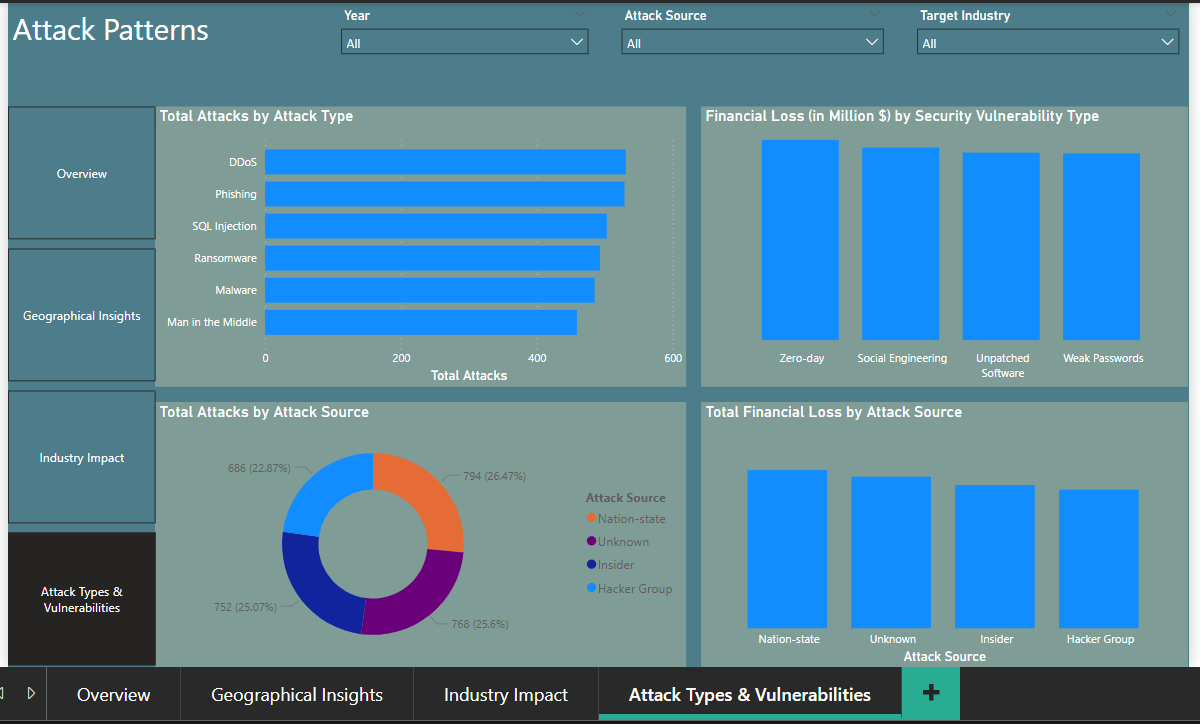

The dashboard page shown, as its layout file describes it:
{"tool":"powerbi","page":{"name":"Attack Types & Vulnerabilities","canvas":[1280,720],"ordinal":3},"visuals":[{"type":"clusteredBarChart","fields":{"Category":["Cyber Security.Attack Type"],"Y":["Cyber Security.Total Attacks"]},"box":[160,112,576,304],"z":0},{"type":"clusteredColumnChart","fields":{"Category":["Cyber Security.Security Vulnerability Type"],"Y":["Sum(Cyber Security.Financial Loss (in Million $))"]},"box":[752,112,528,304],"z":1000},{"type":"donutChart","fields":{"Category":["Cyber Security.Attack Source"],"Y":["Cyber Security.Total Attacks"]},"box":[160,432,576,288],"z":2000},{"type":"clusteredColumnChart","fields":{"Category":["Cyber Security.Attack Source"],"Y":["Cyber Security.Total Financial Loss"]},"box":[752,432,528,288],"z":3000},{"type":"pageNavigator","box":[0,112,160,608],"z":4000},{"type":"slicer","fields":{"Values":["Cyber Security.Year"]},"box":[352,0,288,96],"z":5000},{"type":"slicer","fields":{"Values":["Cyber Security.Attack Source"]},"box":[656,0,304,96],"z":6000},{"type":"slicer","fields":{"Values":["Cyber Security.Target Industry"]},"box":[976,0,304,96],"z":7000},{"type":"textbox","box":[0,0,304,96],"z":8000}]}

Visuals, with their boxes on the page's 1280x720 design canvas (x1, y1, x2, y2). These are canvas units, not pixel positions in the 1200x724 screenshot, which may show the page scaled, cropped or inside an application window:
clusteredBarChart - Cyber Security.Attack Type x Cyber Security.Total Attacks: Rect(160, 112, 736, 416)
clusteredColumnChart - Cyber Security.Security Vulnerability Type x Sum(Cyber Security.Financial Loss (in Million $)): Rect(752, 112, 1280, 416)
donutChart - Cyber Security.Attack Source x Cyber Security.Total Attacks: Rect(160, 432, 736, 720)
clusteredColumnChart - Cyber Security.Attack Source x Cyber Security.Total Financial Loss: Rect(752, 432, 1280, 720)
pageNavigator: Rect(0, 112, 160, 720)
slicer - Cyber Security.Year: Rect(352, 0, 640, 96)
slicer - Cyber Security.Attack Source: Rect(656, 0, 960, 96)
slicer - Cyber Security.Target Industry: Rect(976, 0, 1280, 96)
textbox: Rect(0, 0, 304, 96)
